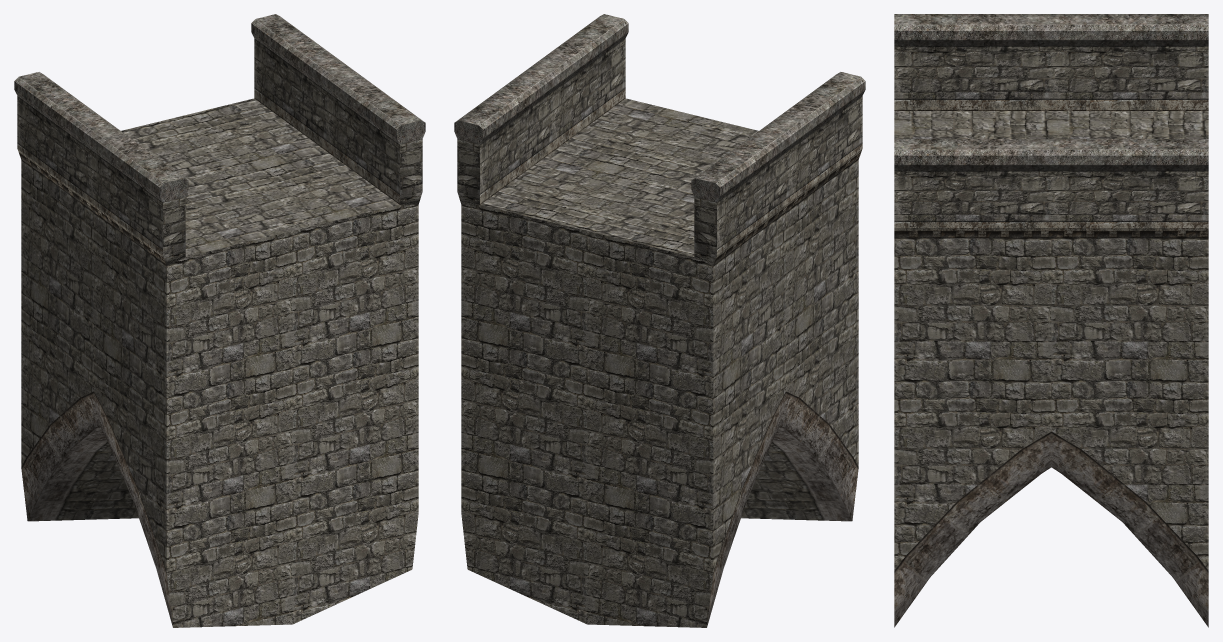
The model's file is StoneBridgeEnd.dae.
3 views of the same model, side by side, from view 1: azimuth 30°, elevation 25°; view 2: azimuth 150°, elevation 25°; view 3: azimuth 270°, elevation 25° (orthographic). The views are drawn at different scales.
Visible parts, largest first — view 1: DoubleAbutment, EndW; view 2: DoubleAbutment, EndW; view 3: DoubleAbutment, EndW.
Part boxes in pixels (bbox=[...]): DoubleAbutment: bbox=[21, 98, 418, 627]; EndW: bbox=[14, 14, 425, 626]; DoubleAbutment: bbox=[461, 98, 858, 627]; EndW: bbox=[454, 14, 865, 626]; DoubleAbutment: bbox=[894, 111, 1208, 570]; EndW: bbox=[894, 14, 1208, 627].
Bounding box in the file's own units: 4.22 × 7.17 × 4.
